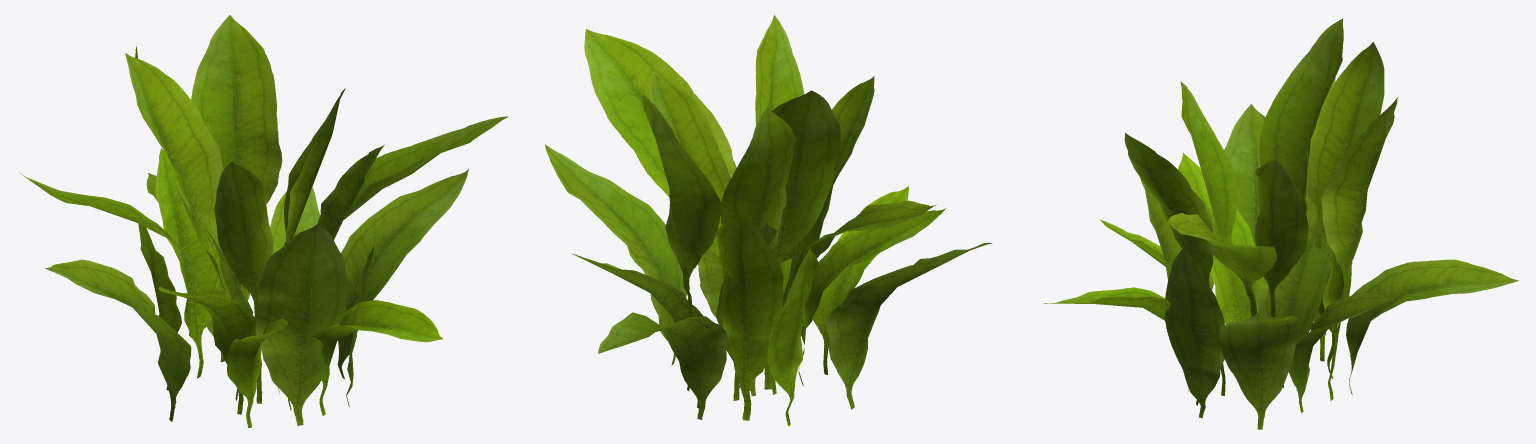
The model's file is Echinodorus_Bleheri_Autumn_Adult.glb.
The picture shows the model from 3 angles, left to right: view 1: azimuth 30°, elevation 25°; view 2: azimuth 150°, elevation 25°; view 3: azimuth 270°, elevation 25°; orthographic projection. The views are drawn at different scales.
Visible parts, largest first — view 1: Echinodorus_Bleheri_Autumn_Adult__LOD3; view 2: Echinodorus_Bleheri_Autumn_Adult__LOD3; view 3: Echinodorus_Bleheri_Autumn_Adult__LOD3.
Boxes of the visible parts, <box> form: Echinodorus_Bleheri_Autumn_Adult__LOD3: <box>19,15,508,428</box>; Echinodorus_Bleheri_Autumn_Adult__LOD3: <box>545,15,992,426</box>; Echinodorus_Bleheri_Autumn_Adult__LOD3: <box>1043,18,1518,429</box>.
Bounding box in the file's own units: 1.35 × 1 × 1.36.
1 material, 1 textured.
